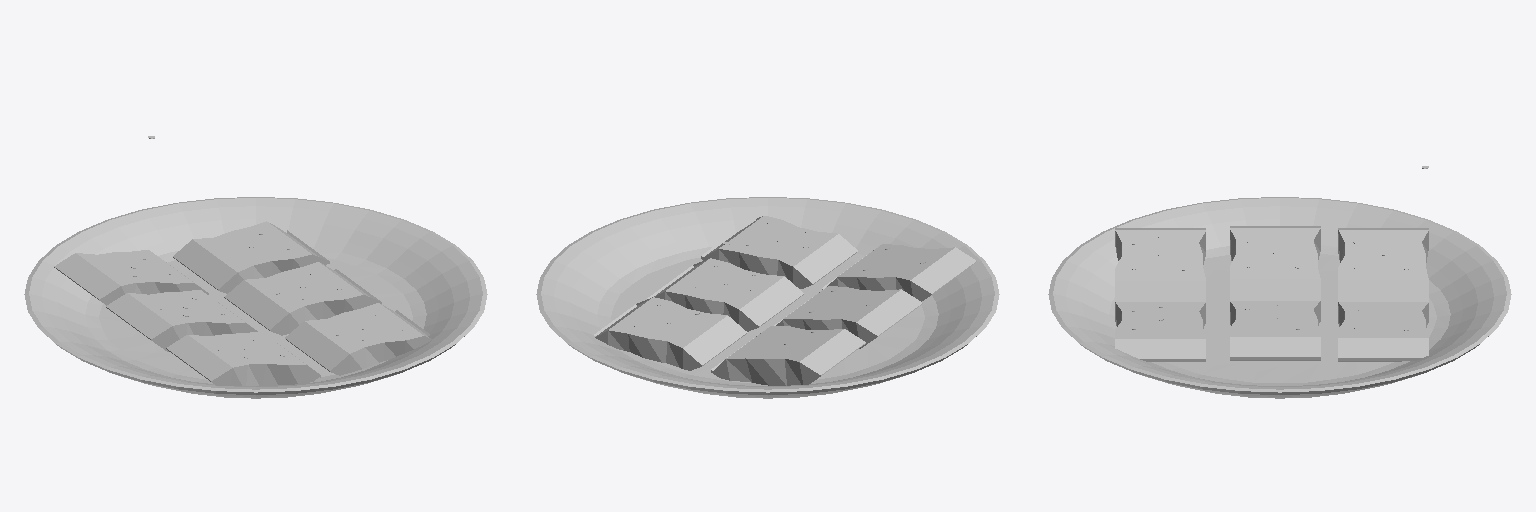
Rendered from kue hawkue.obj.
The picture shows the model from 3 angles: view 1: azimuth 30°, elevation 25°; view 2: azimuth 150°, elevation 25°; view 3: azimuth 270°, elevation 25°; orthographic projection.
Parts seen in each view (by area): view 1: Cylinder, Cube, Cube.002, Cube.001, Cube.005, Cube.003, Cube.004; view 2: Cylinder, Cube.001, Cube.002, Cube.004, Cube, Cube.005, Cube.003; view 3: Cylinder, Cube.003, Cube.004, Cube.005, Cube, Cube.001, Cube.002.
Boxes of the visible parts, <box> form: Cylinder: <box>24,197,487,398</box>; Cube: <box>224,262,381,335</box>; Cube.002: <box>285,303,432,375</box>; Cube.001: <box>173,221,329,293</box>; Cube.005: <box>166,331,320,385</box>; Cube.003: <box>106,290,257,351</box>; Cube.004: <box>54,250,208,305</box>; Cylinder: <box>536,197,999,398</box>; Cube.001: <box>594,297,747,370</box>; Cube.002: <box>701,216,857,288</box>; Cube.004: <box>711,326,865,385</box>; Cube: <box>647,258,803,331</box>; Cube.005: <box>822,244,976,301</box>; Cube.003: <box>774,286,922,348</box>; Cylinder: <box>1048,197,1511,398</box>; Cube.003: <box>1230,226,1320,300</box>; Cube.004: <box>1338,228,1428,301</box>; Cube.005: <box>1115,228,1205,301</box>; Cube: <box>1230,301,1320,360</box>; Cube.001: <box>1338,302,1428,361</box>; Cube.002: <box>1115,302,1205,361</box>.
Bounding box in the file's own units: 2.31 × 0.8082 × 2.31.